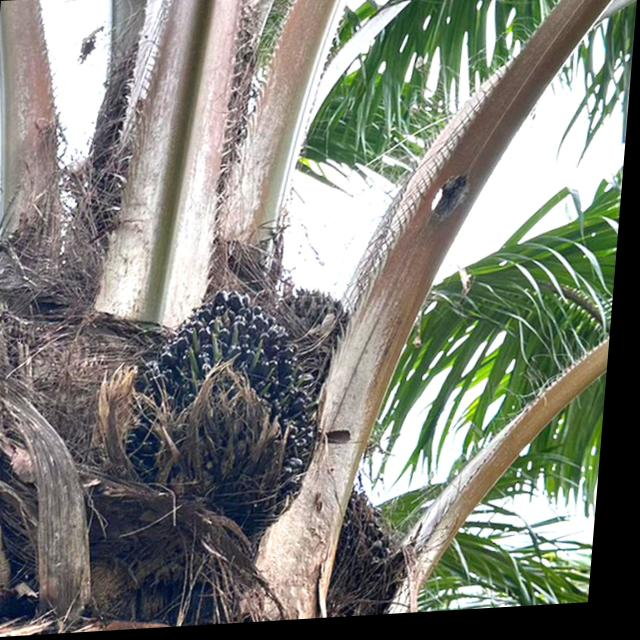unripe: (118, 274, 345, 551)
